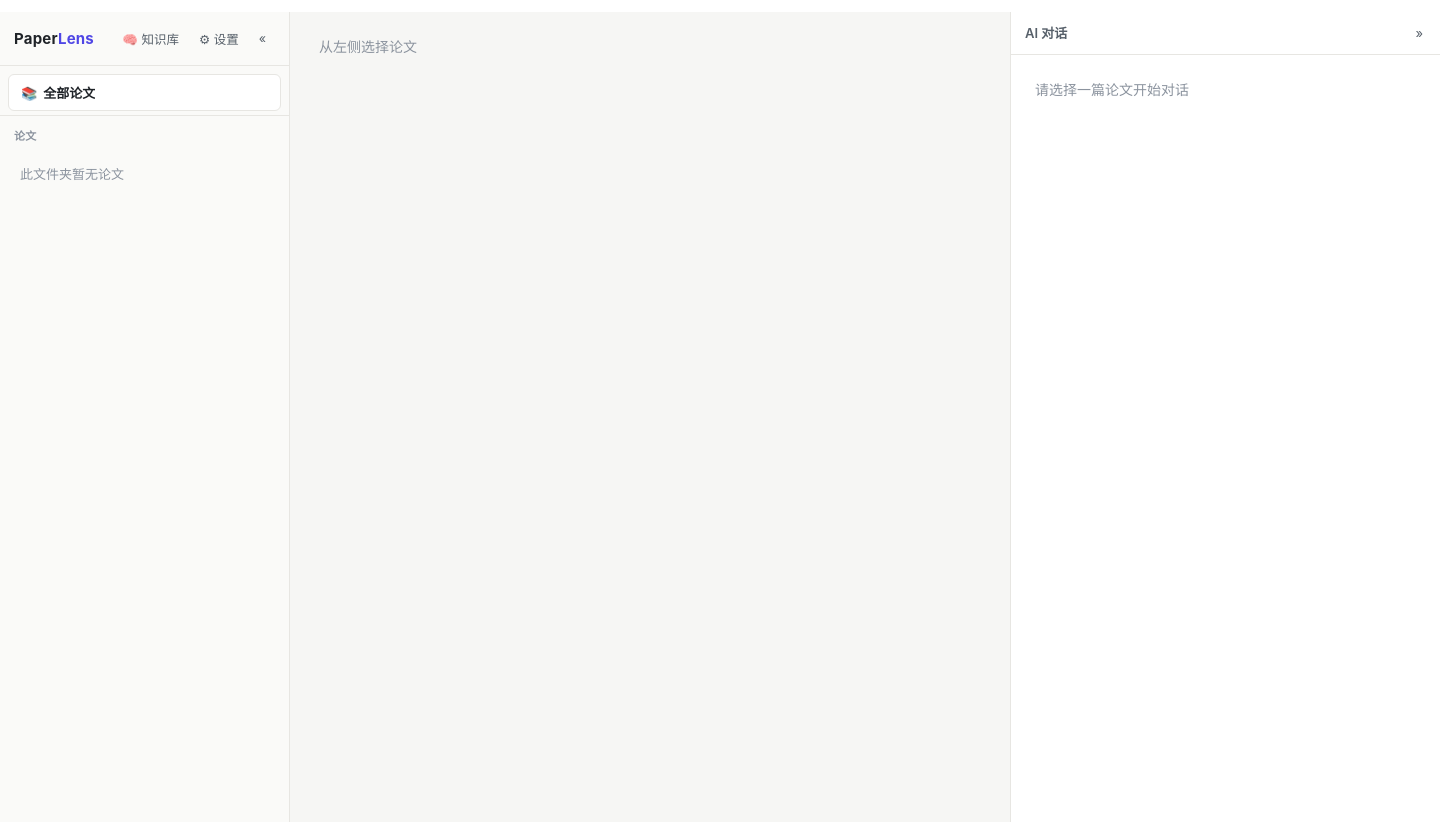
Scenario: App › collapses and expands the chat pane
The width and height of the screenshot is (1452, 822).
expect the text "请选择一篇论文开始对话" is shown: met, box [1035,81,1189,98]
Click the button named "收起对话". click: (1419,33)
box: [1406,20,1432,46]
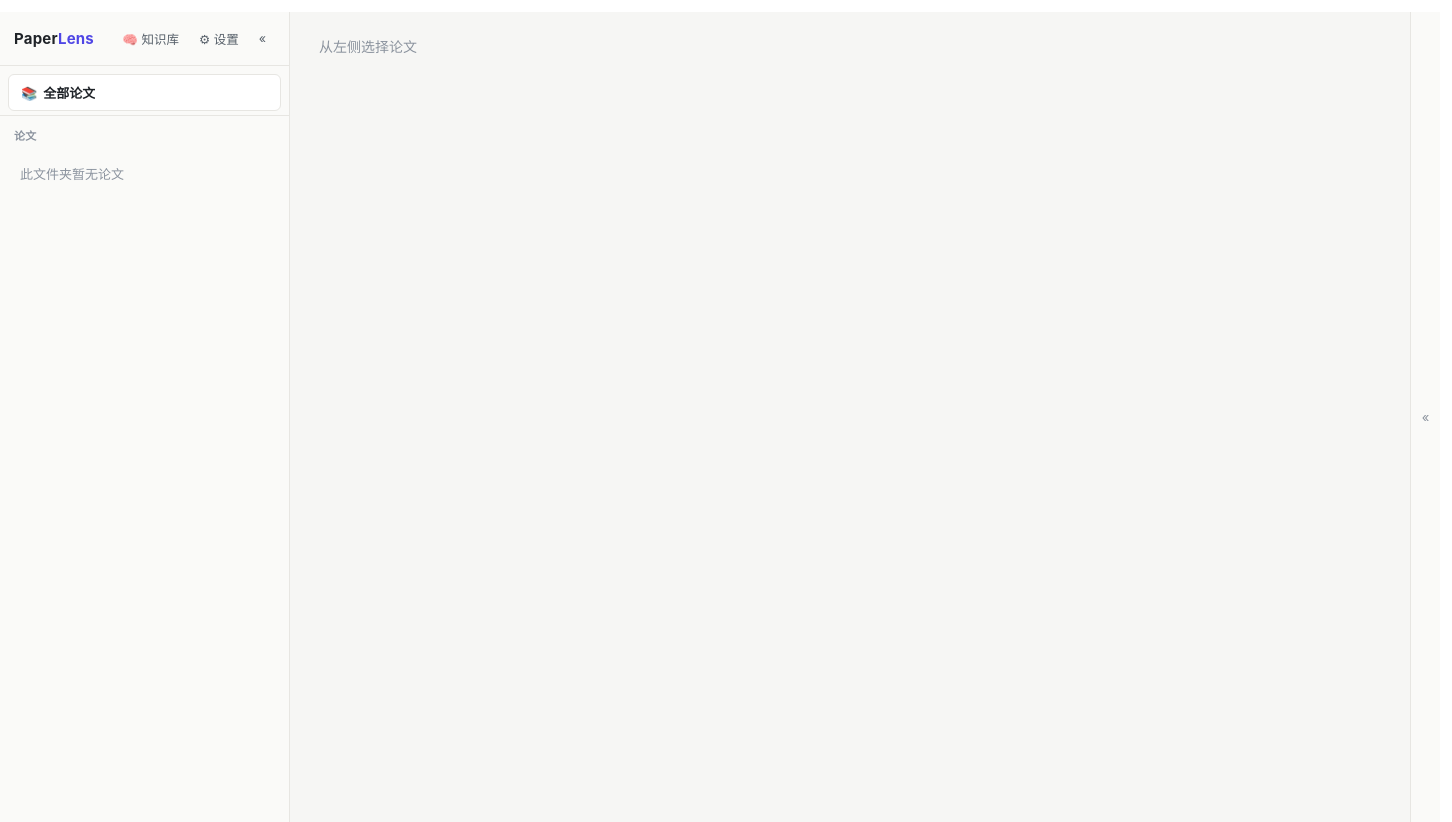
expect the text "请选择一篇论文开始对话" is gone: met
Click the button named "展开对话". click: (1426,417)
box: [1411,12,1440,821]
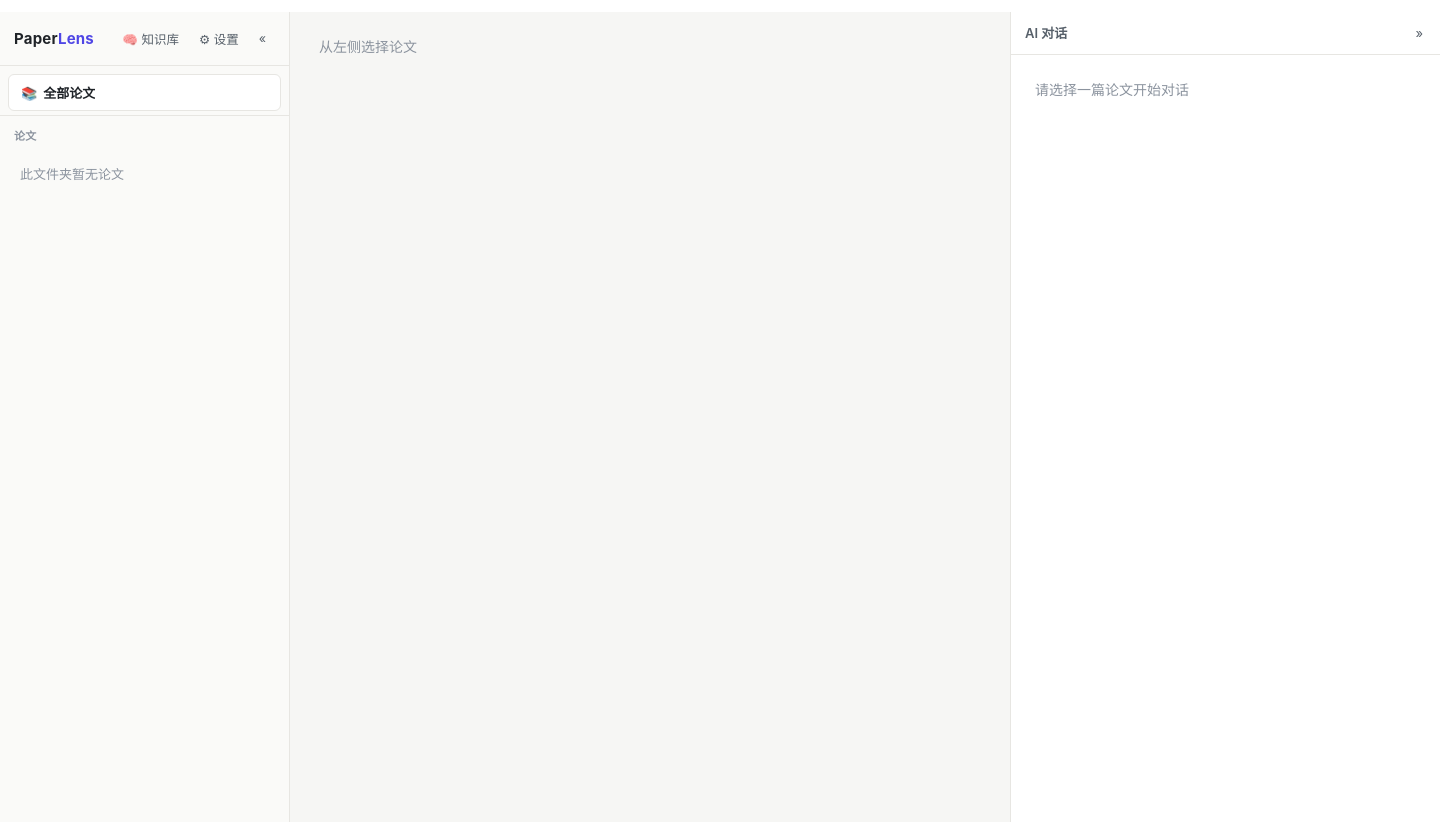
expect the text "请选择一篇论文开始对话" is shown: met, box [1035,81,1189,98]
